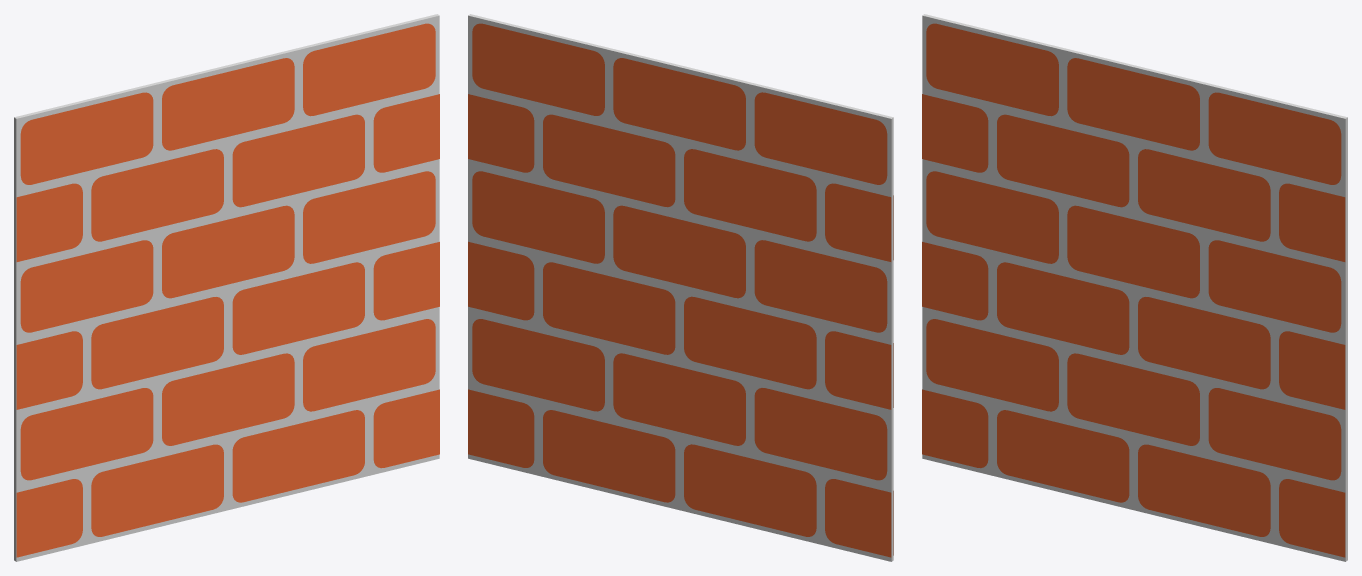
Rendered from Wall Bricks A.fbx.
3 renders of one model, left to right at view 1: azimuth 30°, elevation 25°; view 2: azimuth 150°, elevation 25°; view 3: azimuth 330°, elevation 25°, orthographic.
Parts seen in each view (by area): view 1: Wall Bricks A; view 2: Wall Bricks A; view 3: Wall Bricks A.
Boxes of the visible parts, <box> form: Wall Bricks A: <box>14,14,439,561</box>; Wall Bricks A: <box>468,14,893,561</box>; Wall Bricks A: <box>922,14,1347,561</box>.
Bounding box in the file's own units: 300 × 300 × 3.12.
